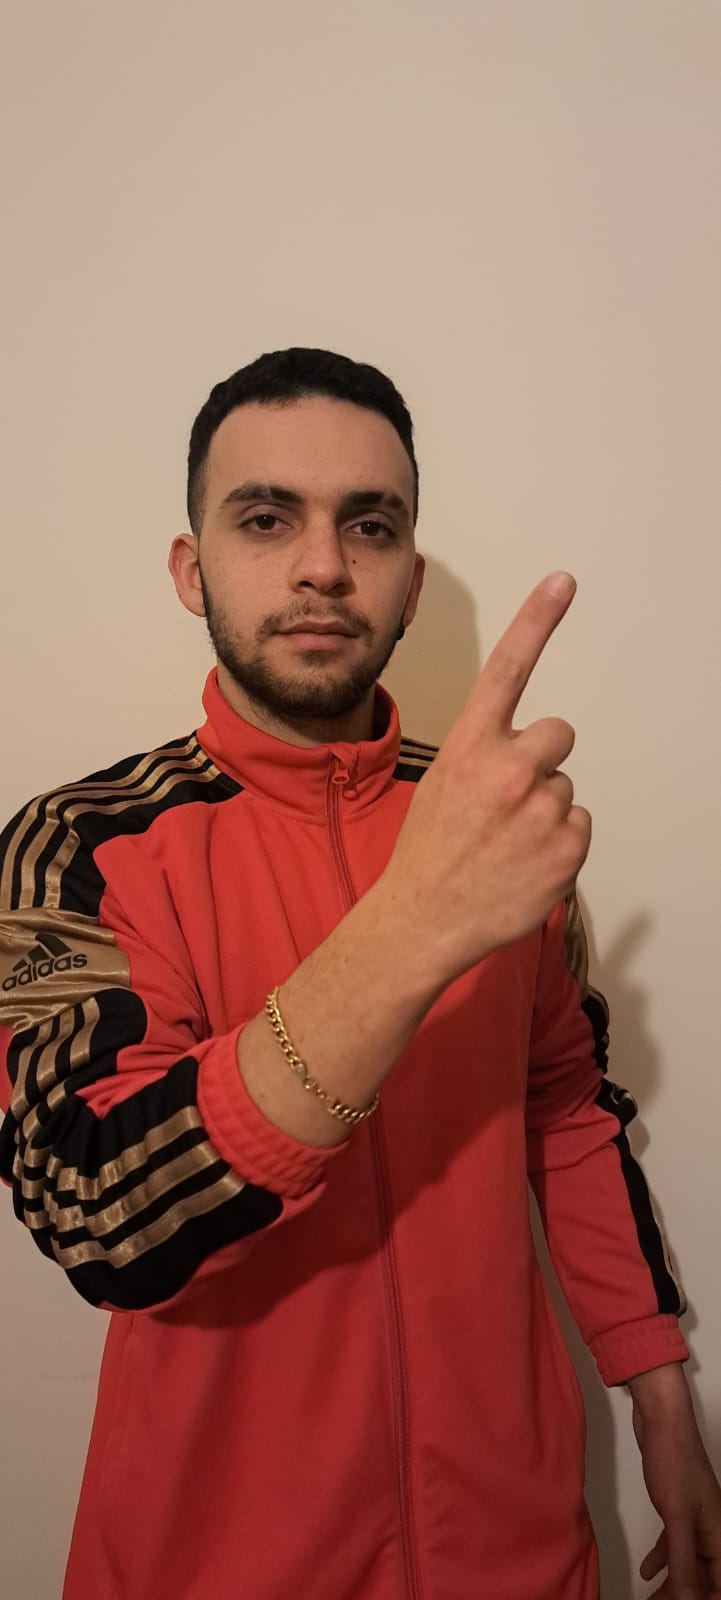joke: (411, 557, 598, 964)
